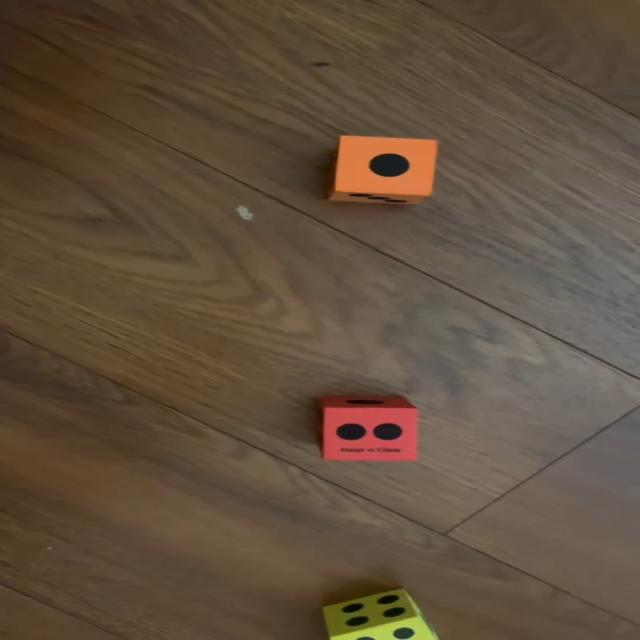red_block: (316, 396, 421, 463)
